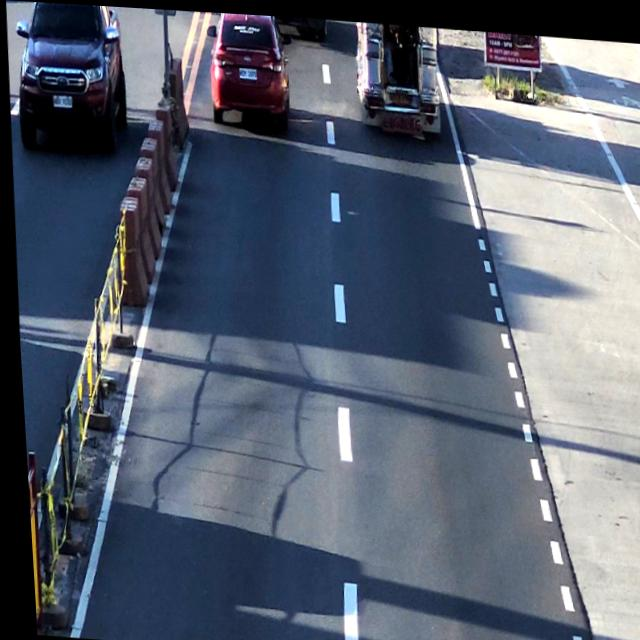Car: (200, 9, 294, 128)
Jeep: (350, 17, 448, 139)
License-Plate: (388, 83, 411, 100), (235, 62, 258, 76)
